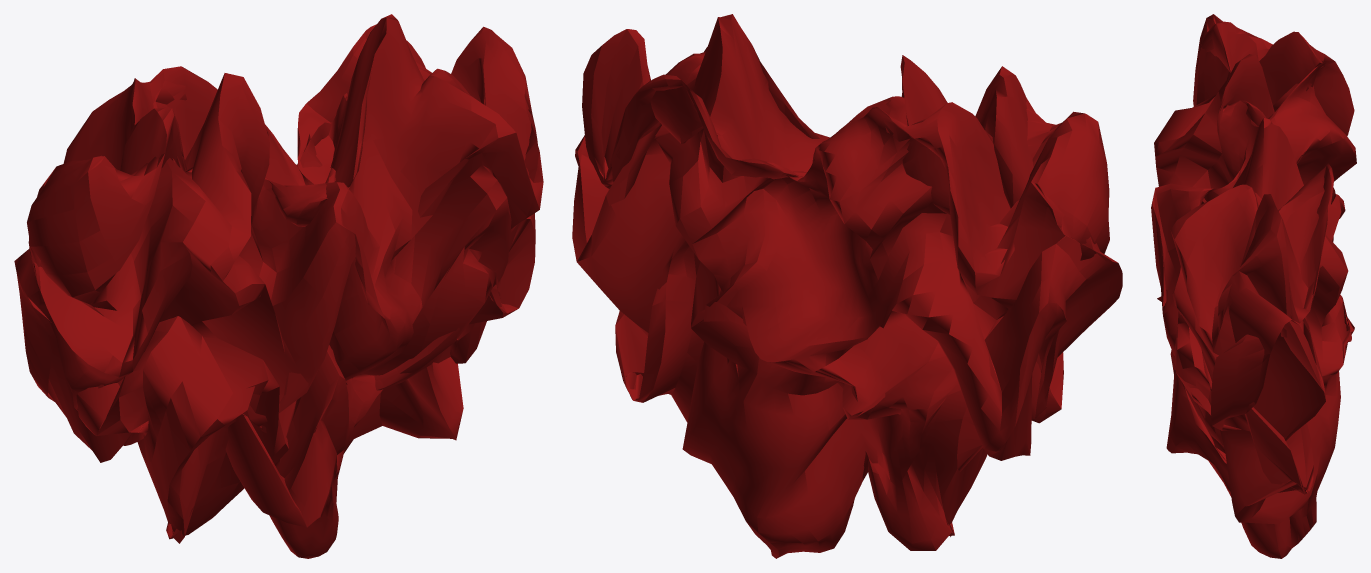
File: 60 heart.obj
3 views of the same model, side by side, from view 1: azimuth 30°, elevation 25°; view 2: azimuth 150°, elevation 25°; view 3: azimuth 270°, elevation 25° (orthographic). The views are drawn at different scales.
Visible parts, largest first — view 1: 000_Heart; view 2: 000_Heart; view 3: 000_Heart.
Boxes of the visible parts, left/top/right/bottom form: 000_Heart: left=14, top=14, right=543, bottom=558; 000_Heart: left=572, top=14, right=1122, bottom=558; 000_Heart: left=1151, top=14, right=1356, bottom=558.
Bounding box in the file's own units: 284 × 275 × 111.
